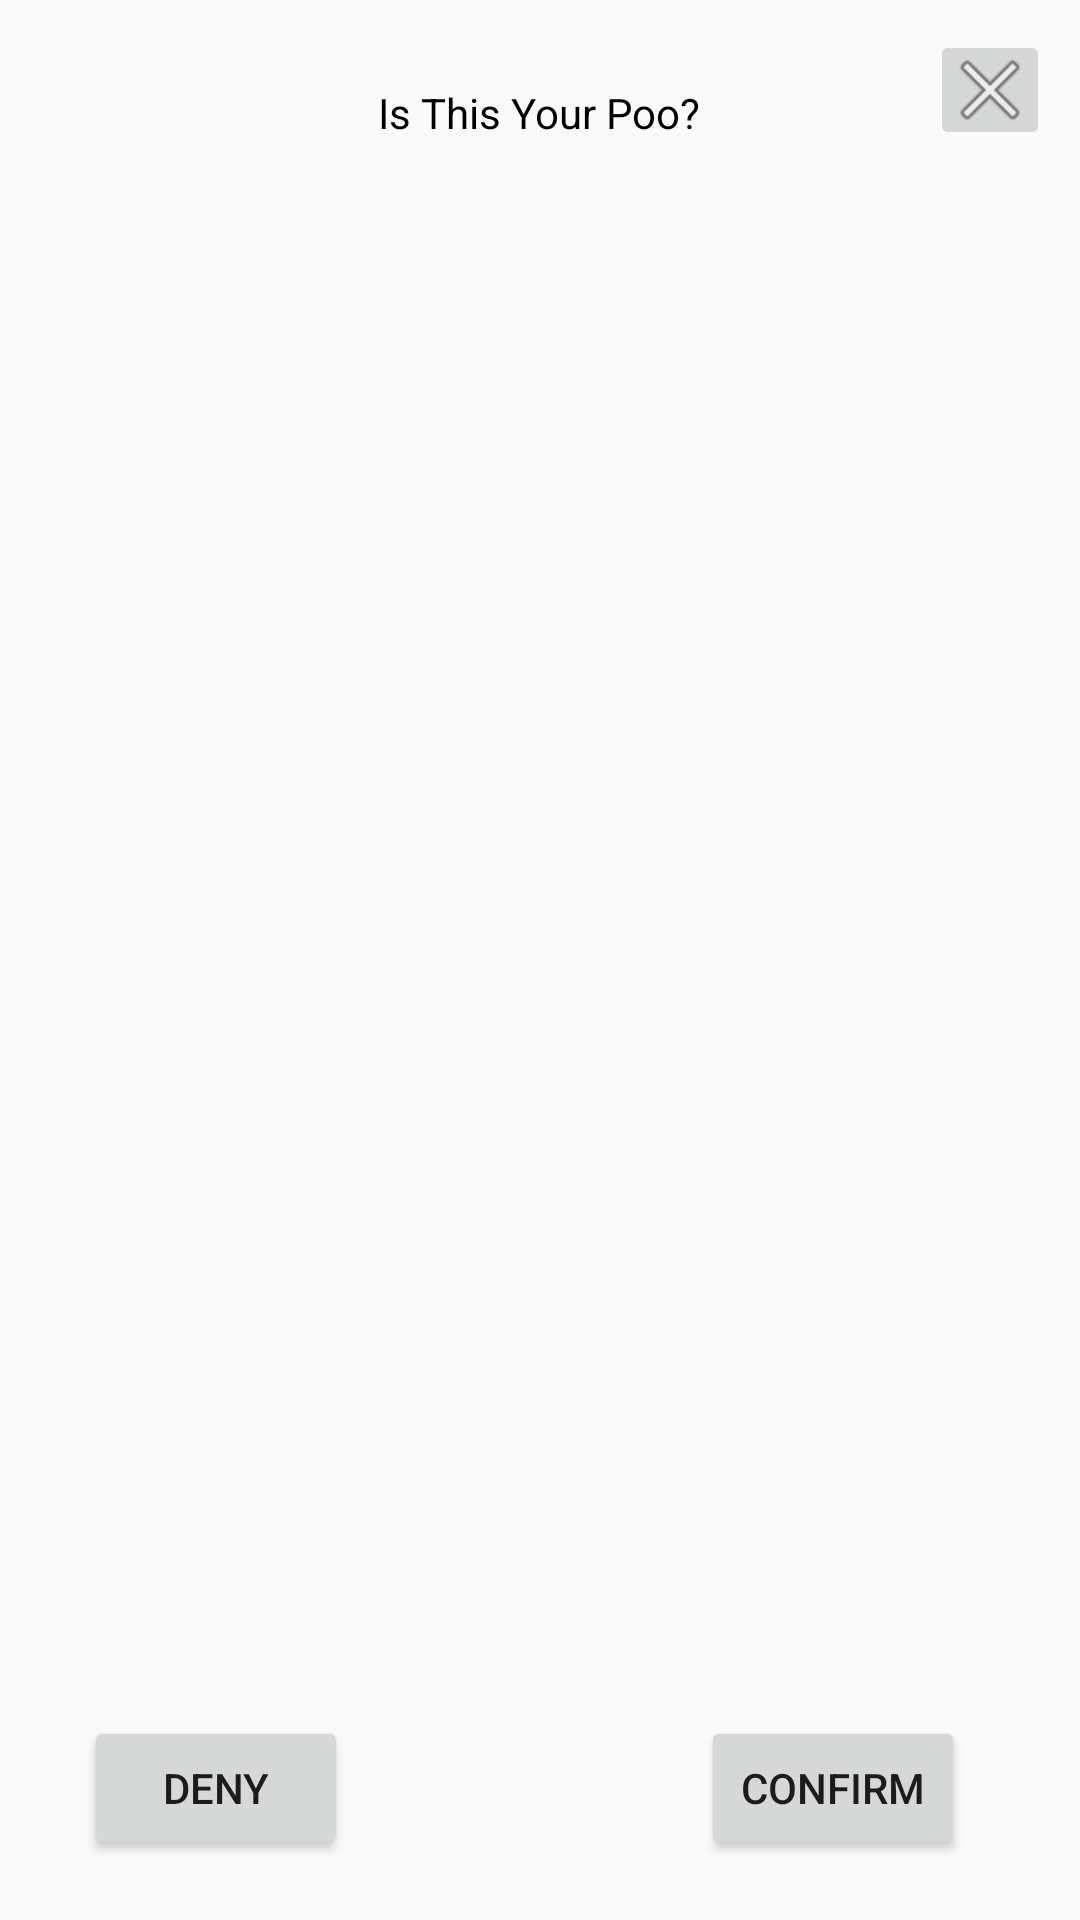

Where icons sit on this 1080 x 1920 app screen, as (x1, y1, x2, y2):
close clear cancel: (942, 48, 1038, 132)
